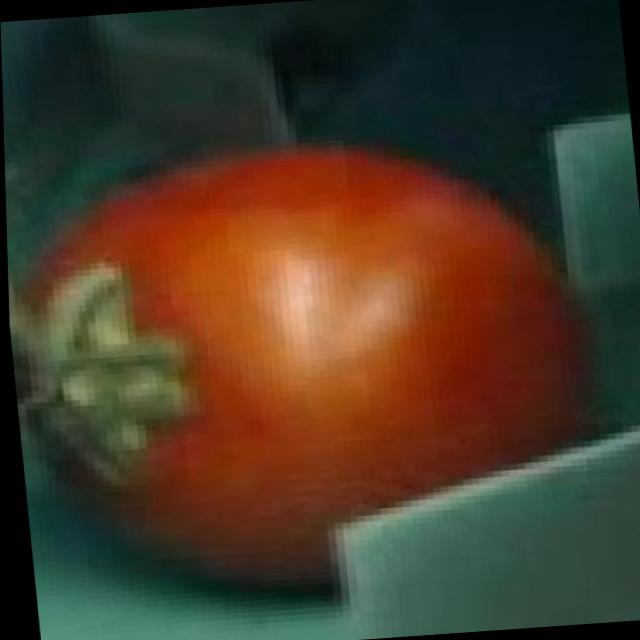tomato: (12, 132, 597, 602)
